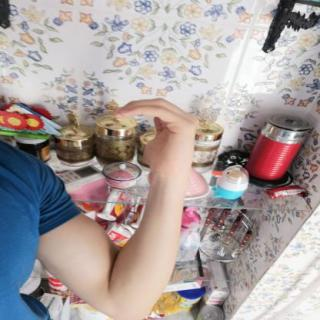HAA: (103, 90, 205, 182)
